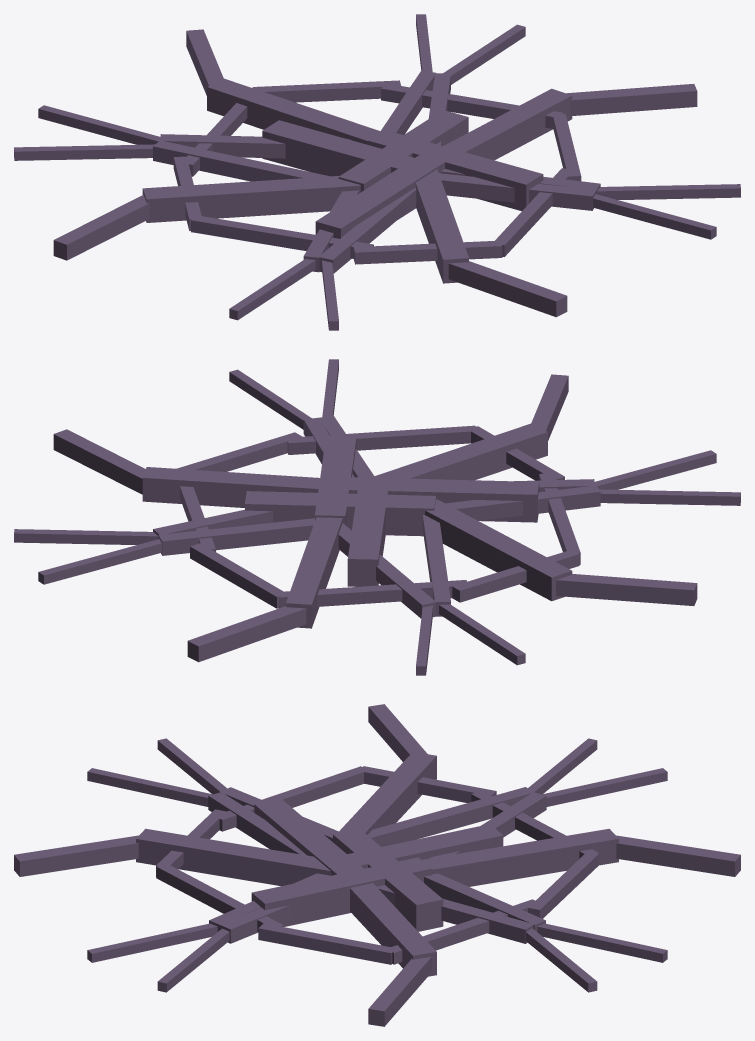
Rendered from CMU3DHiveXenoStickyResinWeak.glb.
3 views of the same model, one above another, from view 1: azimuth 30°, elevation 25°; view 2: azimuth 150°, elevation 25°; view 3: azimuth 270°, elevation 25° (orthographic).
Visible parts, largest first — view 1: connected ground rhizome (×12), forked ground filament (×16), interwoven root loop (×8); view 2: connected ground rhizome (×12), forked ground filament (×16), interwoven root loop (×8); view 3: connected ground rhizome (×12), forked ground filament (×16), interwoven root loop (×8).
Part boxes in pixels (x1=…): connected ground rhizome (×12): x1=53, y1=29, x2=697, y2=317; forked ground filament (×16): x1=14, y1=14, x2=740, y2=330; interwoven root loop (×8): x1=173, y1=80, x2=581, y2=264; connected ground rhizome (×12): x1=53, y1=374, x2=697, y2=662; forked ground filament (×16): x1=14, y1=359, x2=740, y2=675; interwoven root loop (×8): x1=177, y1=425, x2=580, y2=608; connected ground rhizome (×12): x1=14, y1=704, x2=740, y2=1026; forked ground filament (×16): x1=87, y1=738, x2=667, y2=992; interwoven root loop (×8): x1=156, y1=766, x2=598, y2=964.
Size of the model in its own units: 1.02 by 0.042 by 1.02.
